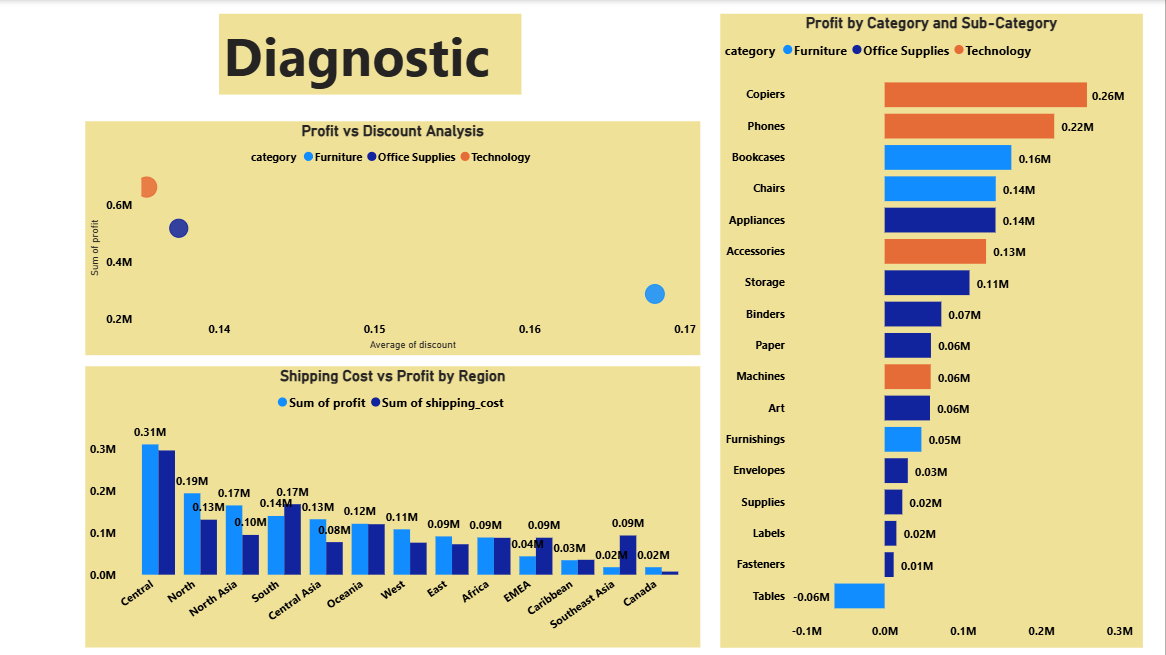

This screenshot's page, from the dashboard's own definition file:
{"tool":"powerbi","page":{"name":"diagonostic","canvas":[1280,720],"ordinal":2},"visuals":[{"type":"scatterChart","title":"Profit vs Discount Analysis","fields":{"X":["Avg(SuperStoreOrders.discount)"],"Series":["SuperStoreOrders.category"],"Y":["Sum(SuperStoreOrders.profit)"],"Size":["Sum(SuperStoreOrders.sales)"]},"box":[94.7,133.1,675.1,256.6],"z":0},{"type":"barChart","title":"Profit by Category and Sub-Category","fields":{"Category":["SuperStoreOrders.sub_category"],"Y":["Sum(SuperStoreOrders.profit)"],"Series":["SuperStoreOrders.category"]},"box":[791.8,15.1,463.8,695.7],"z":1000},{"type":"clusteredColumnChart","title":"Shipping Cost vs Profit by Region","fields":{"Category":["SuperStoreOrders.region"],"Y":["Sum(SuperStoreOrders.profit)","Sum(SuperStoreOrders.shipping_cost)"]},"box":[94.7,402.1,675.1,308.7],"z":2000},{"type":"textbox","box":[241.5,15.1,332.1,89.2],"z":3000}]}

Visuals, with their boxes in screenshot pixels (x1, y1, x2, y2), scaled from the page's 1280x720 canvas onto the 1166x655 screenshot:
"Profit vs Discount Analysis" scatterChart: BBox(86, 121, 701, 355)
"Profit by Category and Sub-Category" barChart: BBox(721, 14, 1144, 647)
"Shipping Cost vs Profit by Region" clusteredColumnChart: BBox(86, 366, 701, 647)
textbox: BBox(220, 14, 523, 95)
